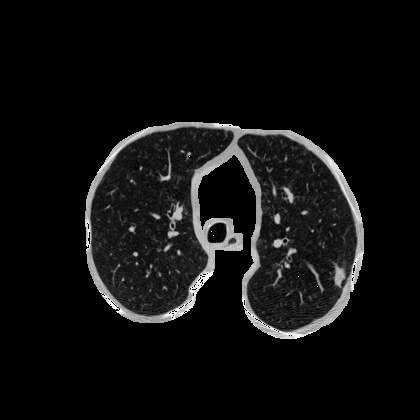PN: (332, 272, 344, 284)
